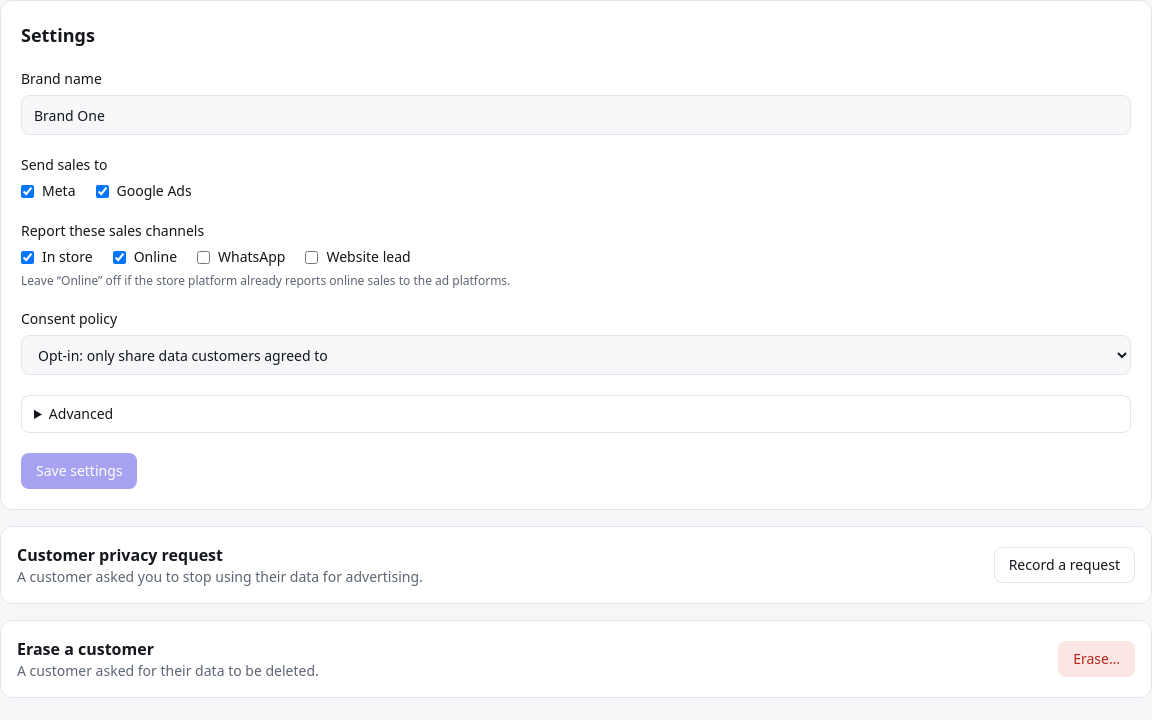
Test case: brand settings › offers Save only once something changed, then sends every field
expect the button "Save settings" is disabled: met, box top-left (21, 453), bottom-right (138, 489)
Replace the text in the field labelled "Brand name" with "Brand Two" at (576, 115), box top-left (21, 95), bottom-right (1131, 135)
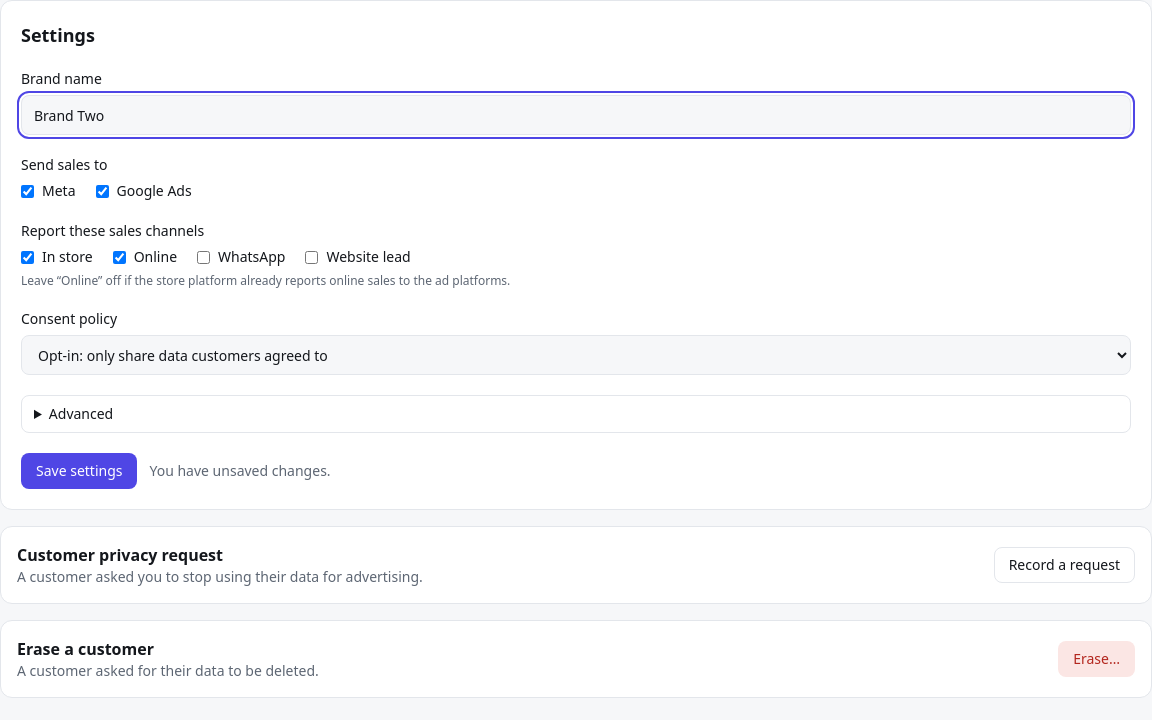
expect the text "You have unsaved changes." is shown: met, box top-left (150, 461), bottom-right (331, 481)
Click the checkbox labelled "Google Ads".
click(102, 191)  # box top-left (96, 184), bottom-right (108, 198)
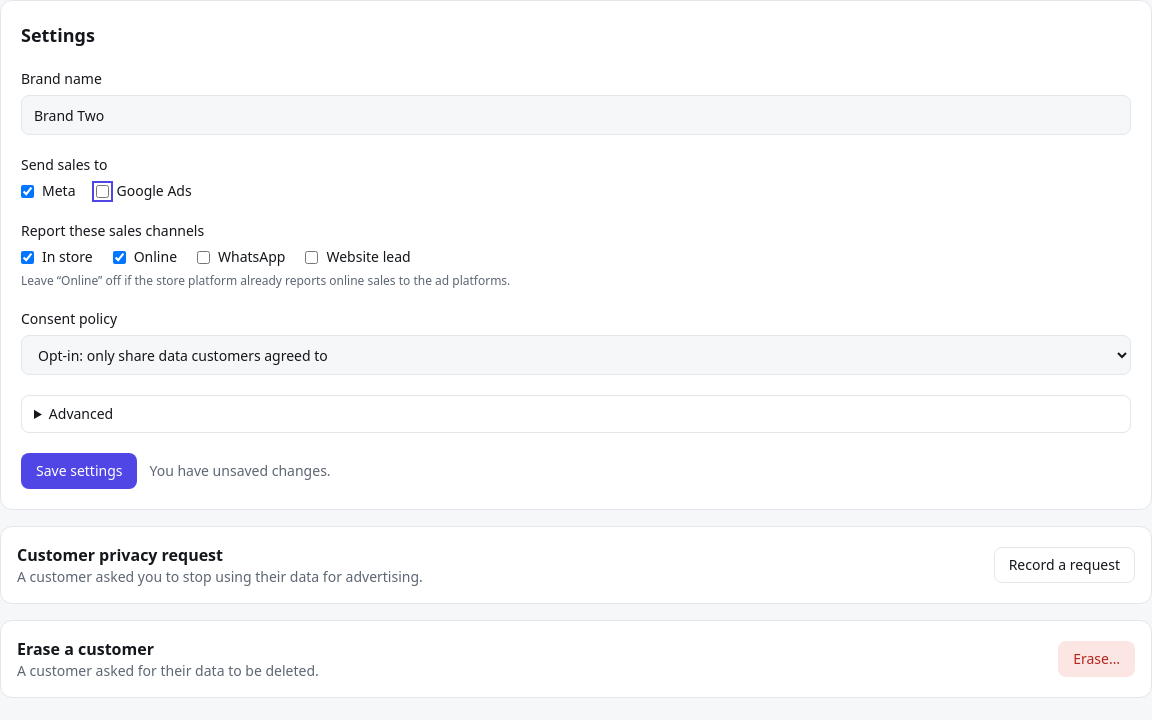
Click the button "Save settings".
click(79, 471)  # box top-left (21, 453), bottom-right (138, 489)
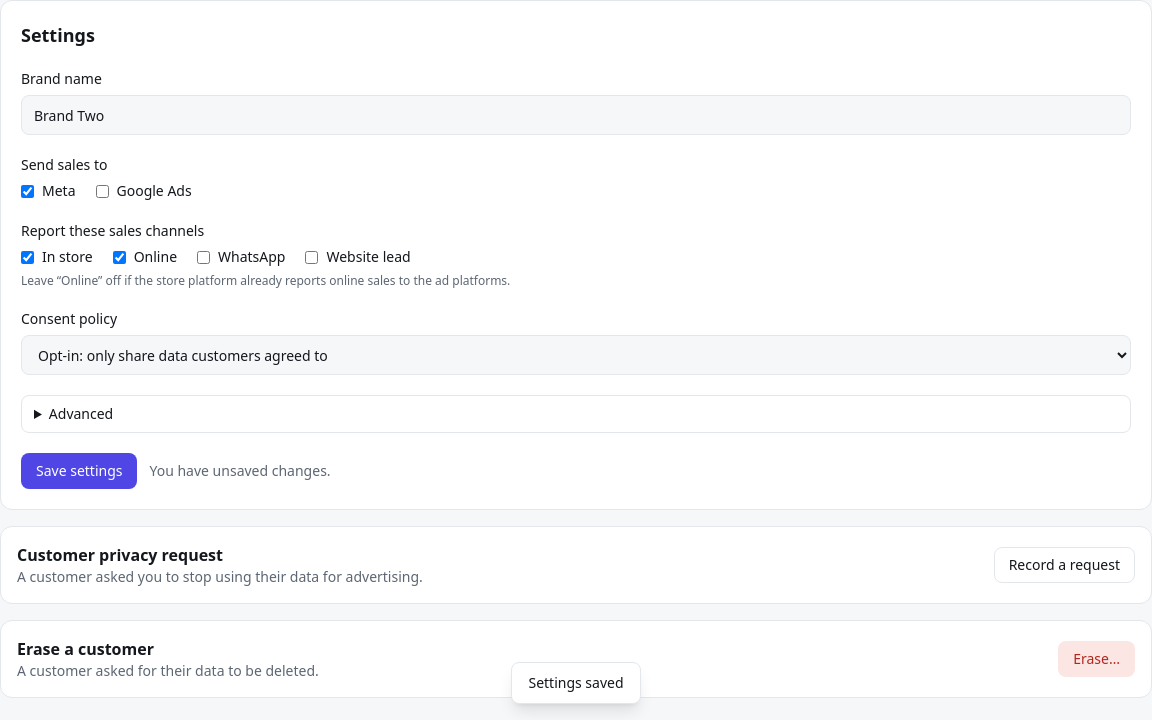
expect the message "Settings saved" is shown: met, box top-left (512, 662), bottom-right (641, 704)
